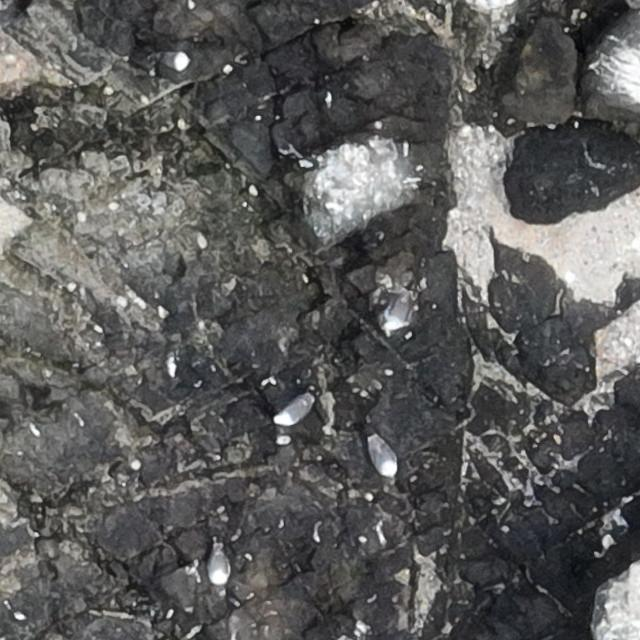umineko: (370, 438, 396, 476), (278, 396, 313, 424), (388, 296, 413, 328), (210, 549, 228, 585), (159, 51, 189, 71)
